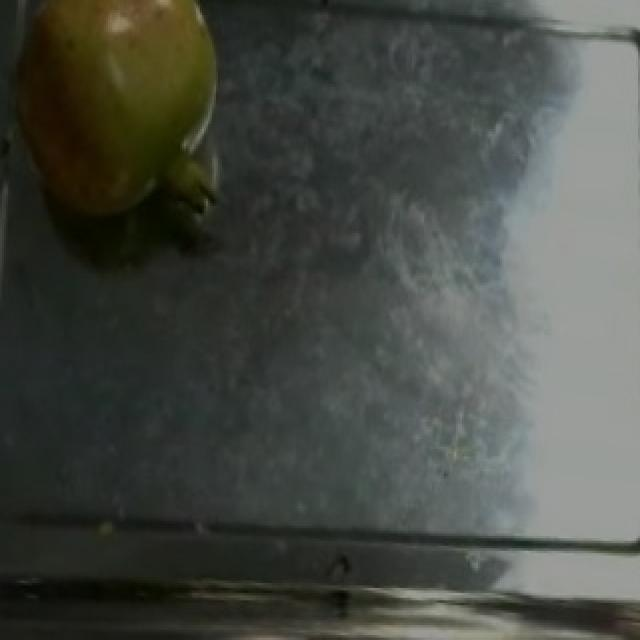fruit: (0, 0, 192, 238)
